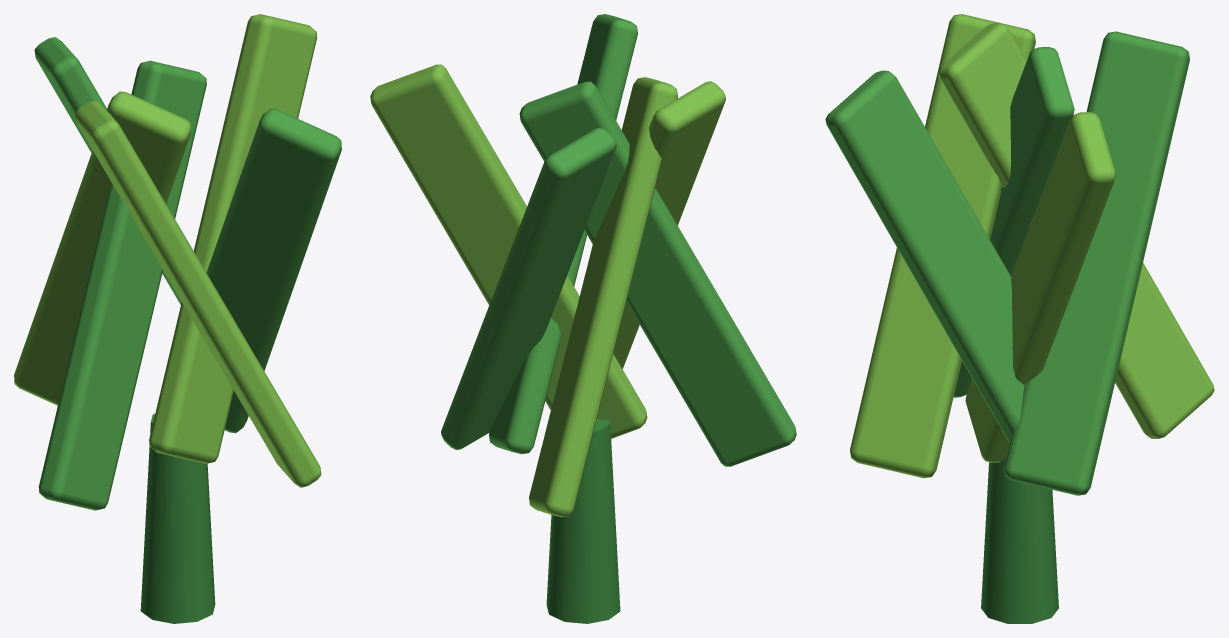
The model's file is prop_tree_tropical_2.glb.
3 views of the same model, side by side, from view 1: azimuth 30°, elevation 25°; view 2: azimuth 150°, elevation 25°; view 3: azimuth 270°, elevation 25° (orthographic). The views are drawn at different scales.
Parts seen in each view (by area): view 1: Leaf3, Leaf0, Leaf5, Leaf4, Leaf2, Stem, Leaf1; view 2: Leaf3, Leaf0, Leaf2, Leaf1, Stem, Leaf5, Leaf4; view 3: Leaf1, Leaf5, Leaf4, Leaf2, Leaf0, Stem, Leaf3.
Boxes of the visible parts, x1,y1,x2,y2 form: Leaf3: (38, 60, 206, 510); Leaf0: (149, 14, 317, 463); Leaf5: (206, 108, 341, 433); Leaf4: (75, 101, 321, 487); Leaf2: (14, 91, 191, 405); Stem: (140, 413, 215, 623); Leaf1: (34, 37, 181, 304); Leaf3: (519, 81, 796, 466); Leaf0: (370, 64, 647, 438); Leaf2: (529, 77, 677, 517); Leaf1: (441, 127, 616, 449); Stem: (546, 419, 620, 623); Leaf5: (489, 14, 637, 454); Leaf4: (613, 81, 725, 368); Leaf1: (1004, 31, 1189, 495); Leaf5: (825, 70, 1024, 442); Leaf4: (850, 14, 1035, 478); Leaf2: (938, 23, 1214, 438); Leaf0: (965, 112, 1115, 462); Stem: (981, 457, 1058, 623); Leaf3: (953, 47, 1074, 397).
Size of the model in its own units: 2.32 by 3.44 by 2.2.
